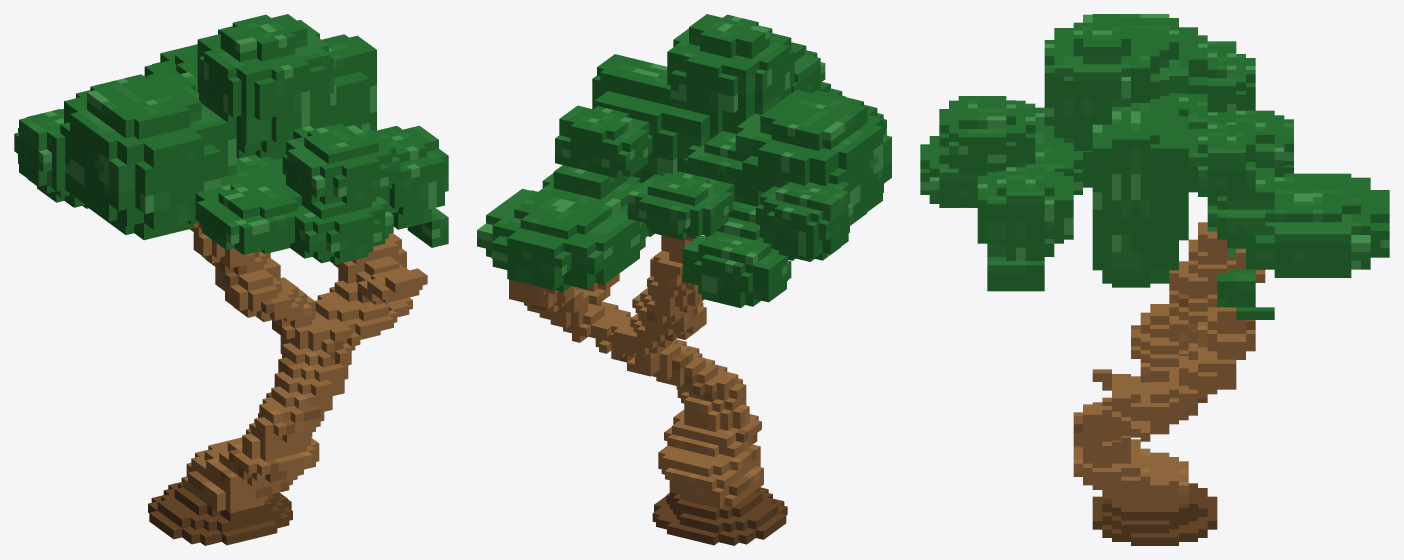
File: 1_3 caju.obj
The picture shows the model from 3 angles, left to right: view 1: azimuth 30°, elevation 25°; view 2: azimuth 150°, elevation 25°; view 3: azimuth 270°, elevation 25°; orthographic projection. The views are drawn at different scales.
Bounding box in the file's own units: 4.2 × 5.7 × 4.9.
1 material, 1 textured.
